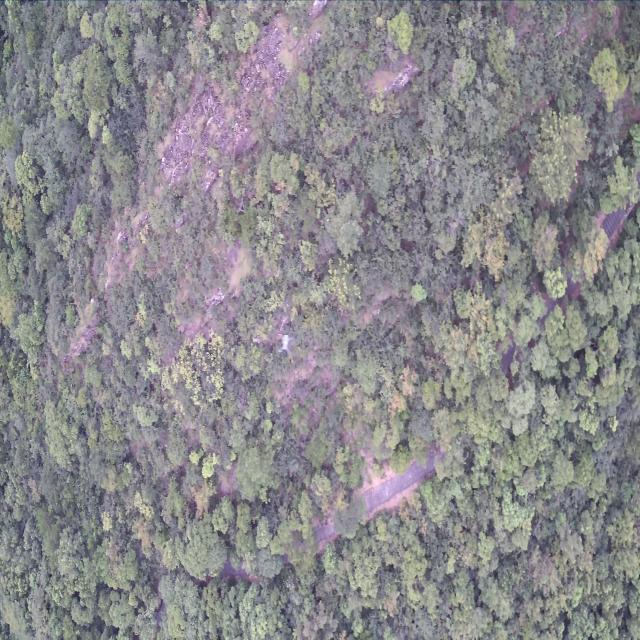drone: (277, 333, 294, 356)
